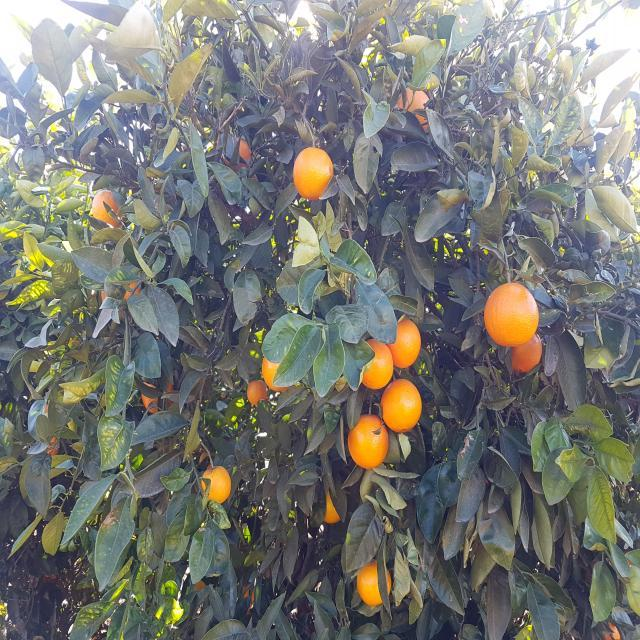Jeruk Sudah Matang: (484, 282, 540, 347), (381, 378, 423, 434), (348, 414, 389, 470), (294, 147, 334, 200), (384, 318, 422, 368), (395, 86, 433, 133), (358, 338, 393, 388), (356, 559, 391, 607), (140, 376, 175, 416), (262, 350, 294, 391), (222, 136, 253, 176), (511, 334, 543, 372), (202, 464, 232, 504), (92, 190, 122, 228), (322, 490, 344, 524), (240, 582, 260, 616), (121, 278, 141, 306), (247, 380, 268, 406), (194, 578, 212, 600), (601, 622, 620, 640), (43, 438, 60, 458)
